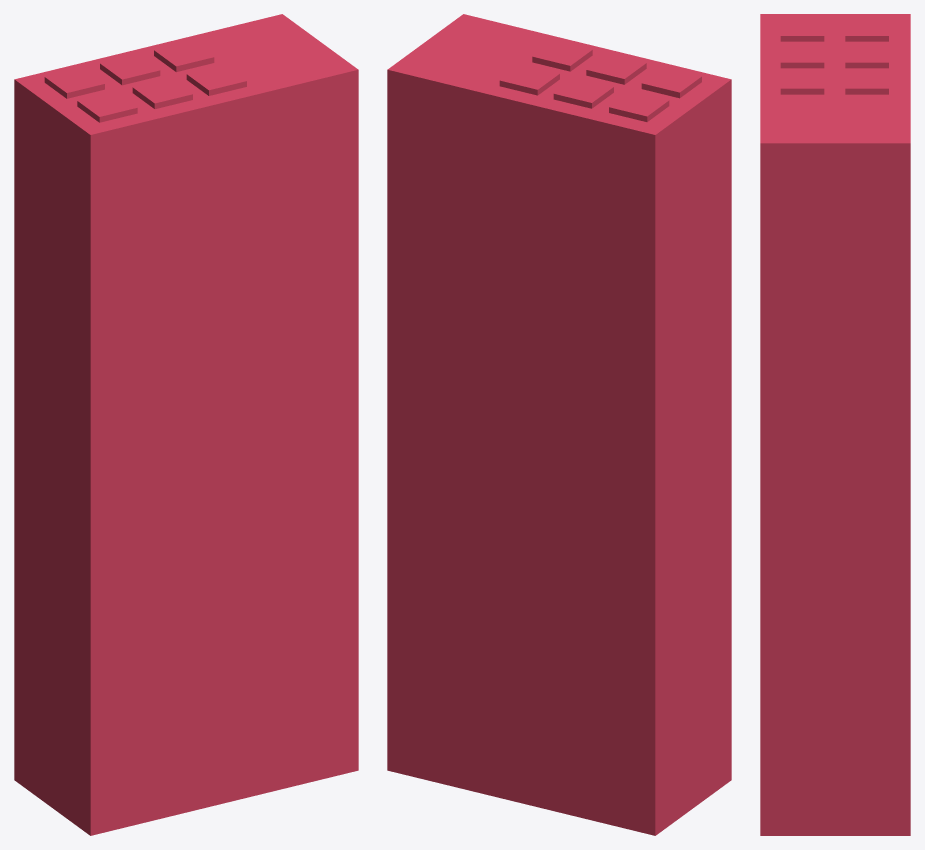
The model's file is Building2_red.fbx.
The picture shows the model from 3 angles, left to right: view 1: azimuth 30°, elevation 25°; view 2: azimuth 150°, elevation 25°; view 3: azimuth 270°, elevation 25°; orthographic projection.
Parts seen in each view (by area): view 1: Building 2; view 2: Building 2; view 3: Building 2.
Part boxes in pixels (x1,y1,x2,y2): Building 2: (14, 14, 358, 835); Building 2: (387, 14, 731, 835); Building 2: (760, 14, 910, 835).
Size of the model in its own units: 1683 by 4241 by 828.
1 material, 1 textured.
